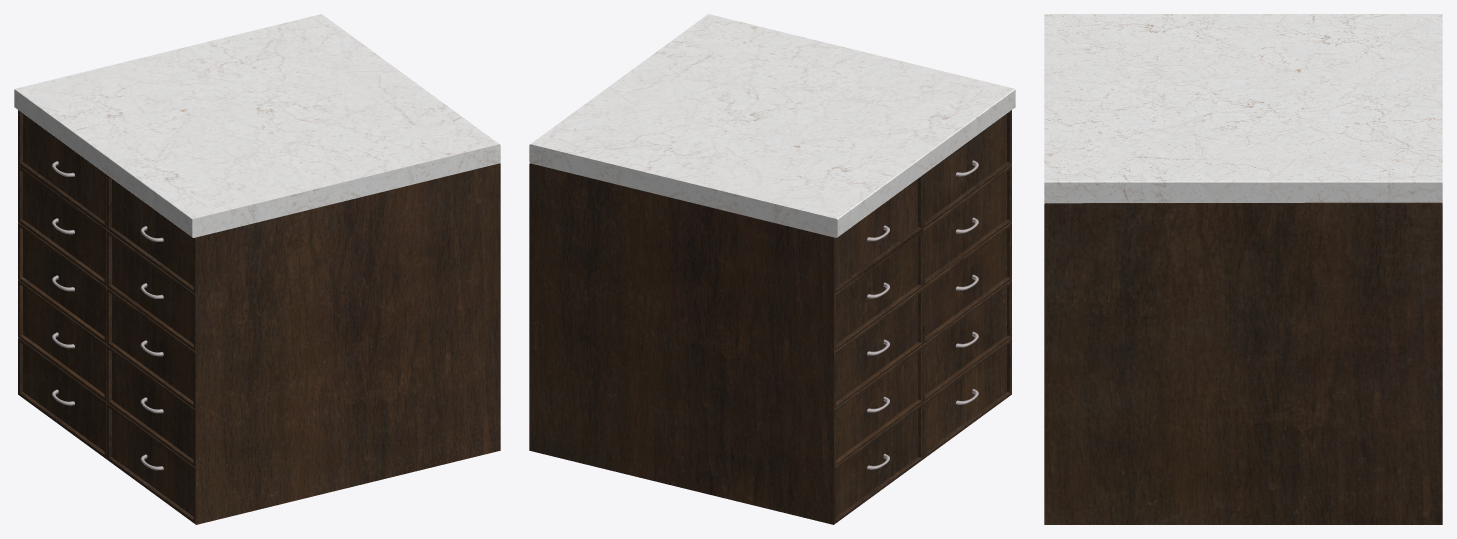
Rendered from SM_KitchenCounter_Lower_01b.fbx.
The picture shows the model from 3 angles, left to right: view 1: azimuth 30°, elevation 25°; view 2: azimuth 150°, elevation 25°; view 3: azimuth 270°, elevation 25°; orthographic projection. The views are drawn at different scales.
Parts seen in each view (by area): view 1: SM_KitchenCounter_Lower_01b_LOD0; view 2: SM_KitchenCounter_Lower_01b_LOD0; view 3: SM_KitchenCounter_Lower_01b_LOD0.
Boxes of the visible parts, box(x1,y1,x2,y2) form: SM_KitchenCounter_Lower_01b_LOD0: box(14, 14, 500, 524); SM_KitchenCounter_Lower_01b_LOD0: box(529, 14, 1015, 524); SM_KitchenCounter_Lower_01b_LOD0: box(1044, 14, 1442, 524).
Bounding box in the file's own units: 101 × 100 × 95.08.
